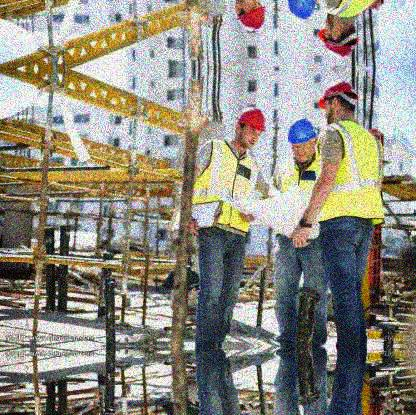helmet: (316, 83, 358, 122), (285, 119, 319, 166), (321, 17, 360, 56), (235, 108, 266, 149), (237, 1, 268, 30)
